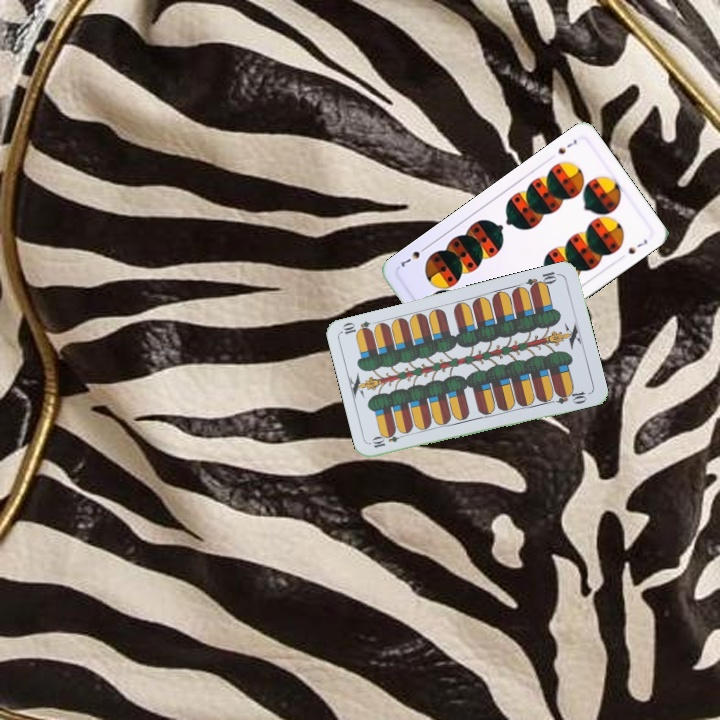E10: (522, 267, 562, 293), (368, 429, 408, 451)
S7: (554, 135, 580, 157)
